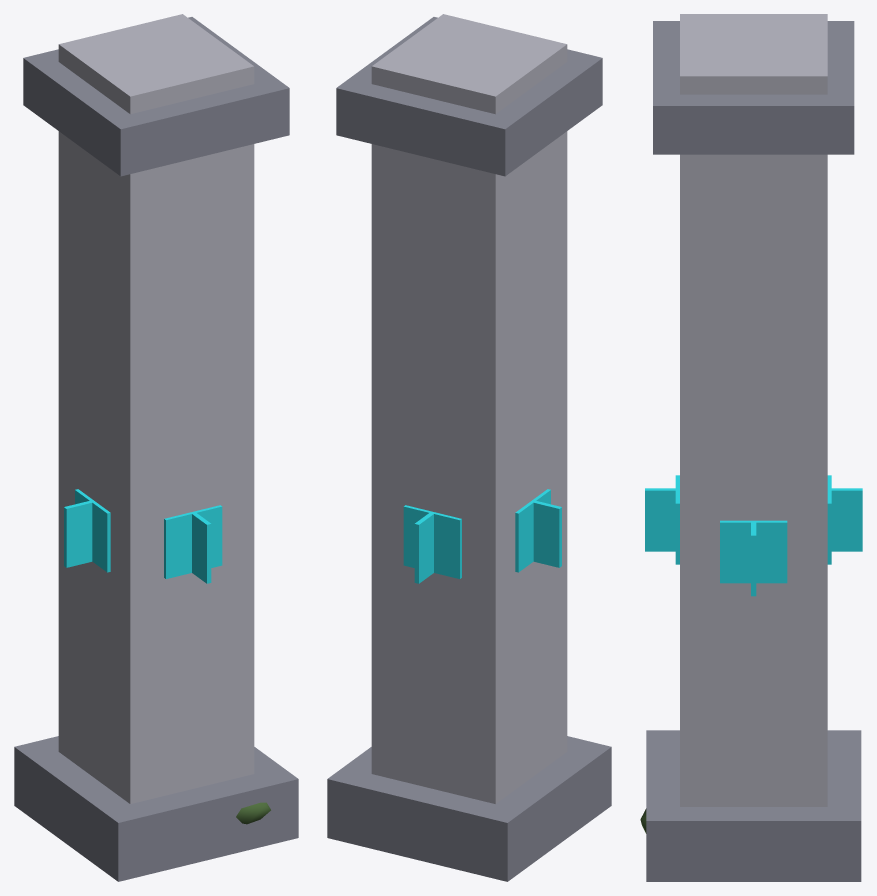
The model's file is archive_pillar.glb.
3 views of the same model, side by side, from view 1: azimuth 30°, elevation 25°; view 2: azimuth 150°, elevation 25°; view 3: azimuth 270°, elevation 25° (orthographic). The views are drawn at different scales.
Parts seen in each view (by area): view 1: base; view 2: base; view 3: base.
Boxes of the visible parts, <box> form: base: <box>14,14,298,881</box>; base: <box>327,14,611,881</box>; base: <box>640,14,862,881</box>.
Size of the model in its own units: 1.62 by 6.5 by 1.65.
